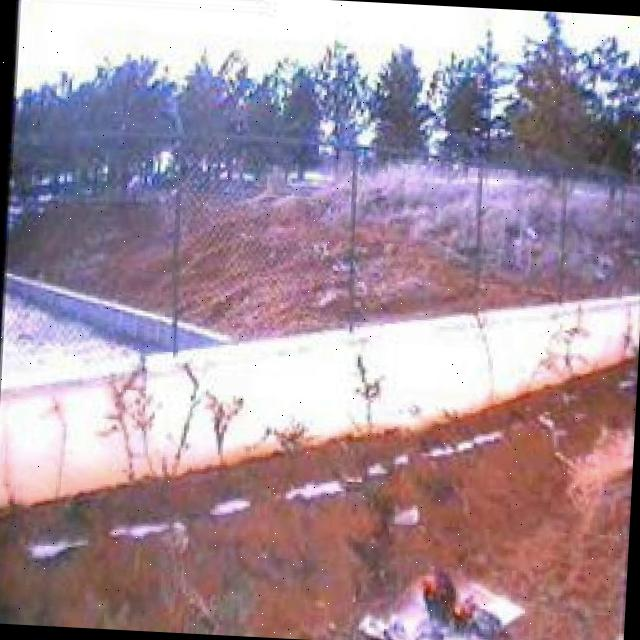fire: (412, 559, 484, 630)
